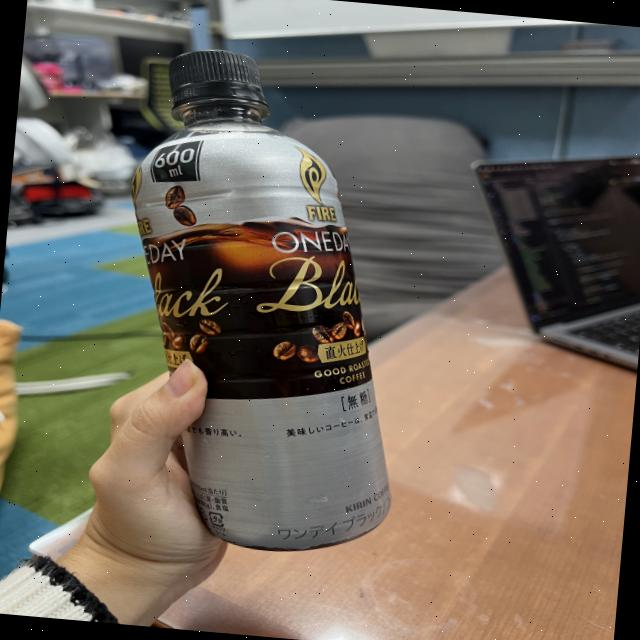coffee-black: (93, 36, 437, 560)
